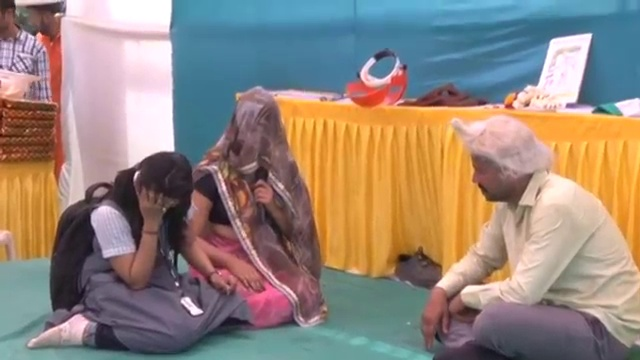helmet: (0, 69, 42, 101)
helmet_off: (458, 121, 548, 210), (118, 154, 192, 218), (226, 92, 285, 167), (22, 0, 57, 37), (2, 0, 18, 29)
person: (408, 114, 640, 354), (27, 150, 225, 356), (174, 96, 320, 329), (2, 0, 61, 106)
